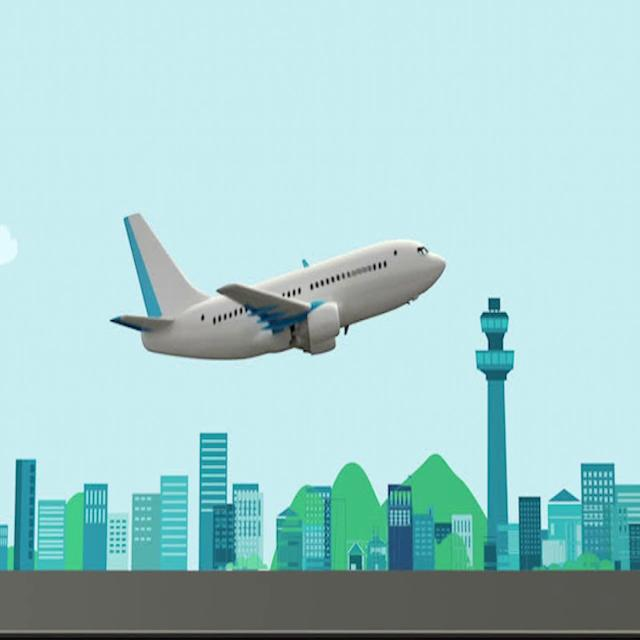plain: (103, 203, 457, 377)
